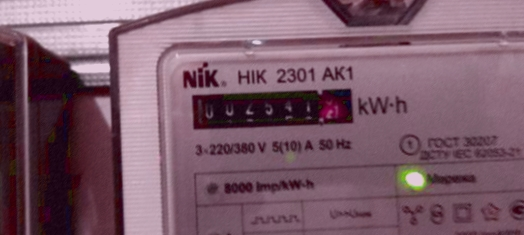0: (200, 98, 214, 119), (221, 95, 234, 116)
1: (300, 94, 312, 114)
2: (241, 95, 254, 116)
4: (281, 93, 294, 115)
5: (260, 94, 273, 116)
6: (323, 105, 334, 120)
screen: (180, 78, 364, 138)
